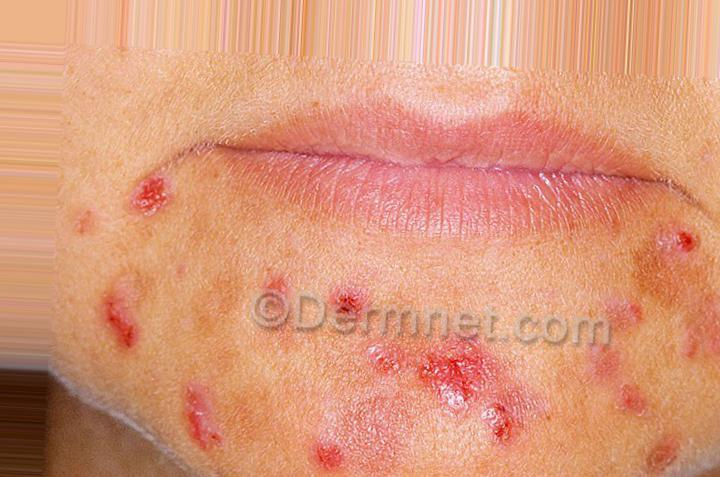Acne: (385, 300, 501, 452), (569, 322, 697, 427), (175, 350, 256, 462), (133, 162, 207, 267), (643, 210, 719, 288), (91, 266, 146, 371), (315, 279, 396, 344), (309, 419, 379, 477), (246, 249, 292, 297)
